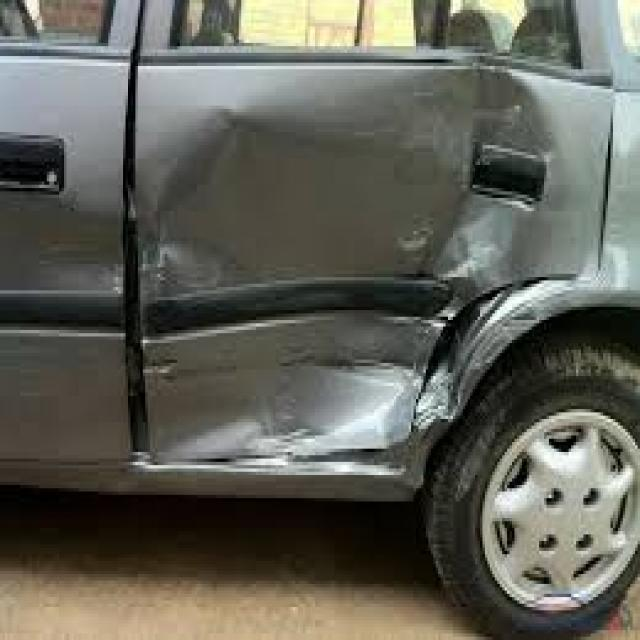minor: (57, 39, 623, 550)
